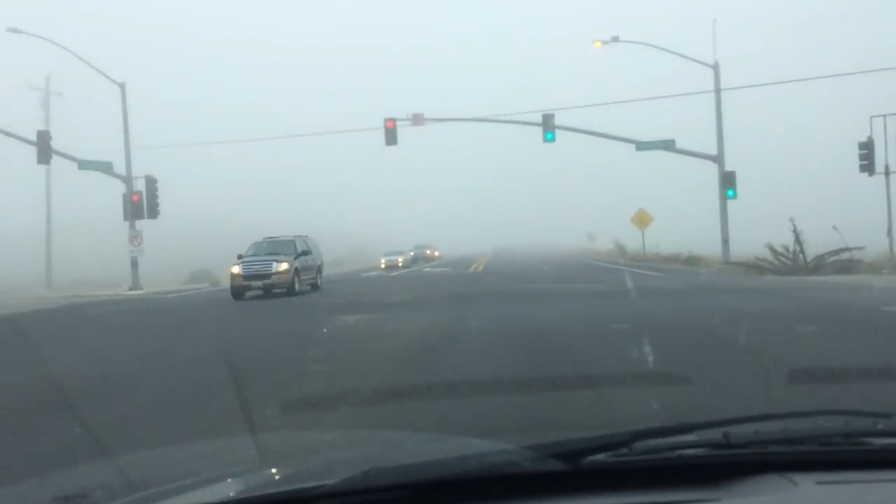car: (228, 233, 325, 301), (380, 249, 412, 271), (408, 244, 434, 264), (422, 243, 442, 261)
